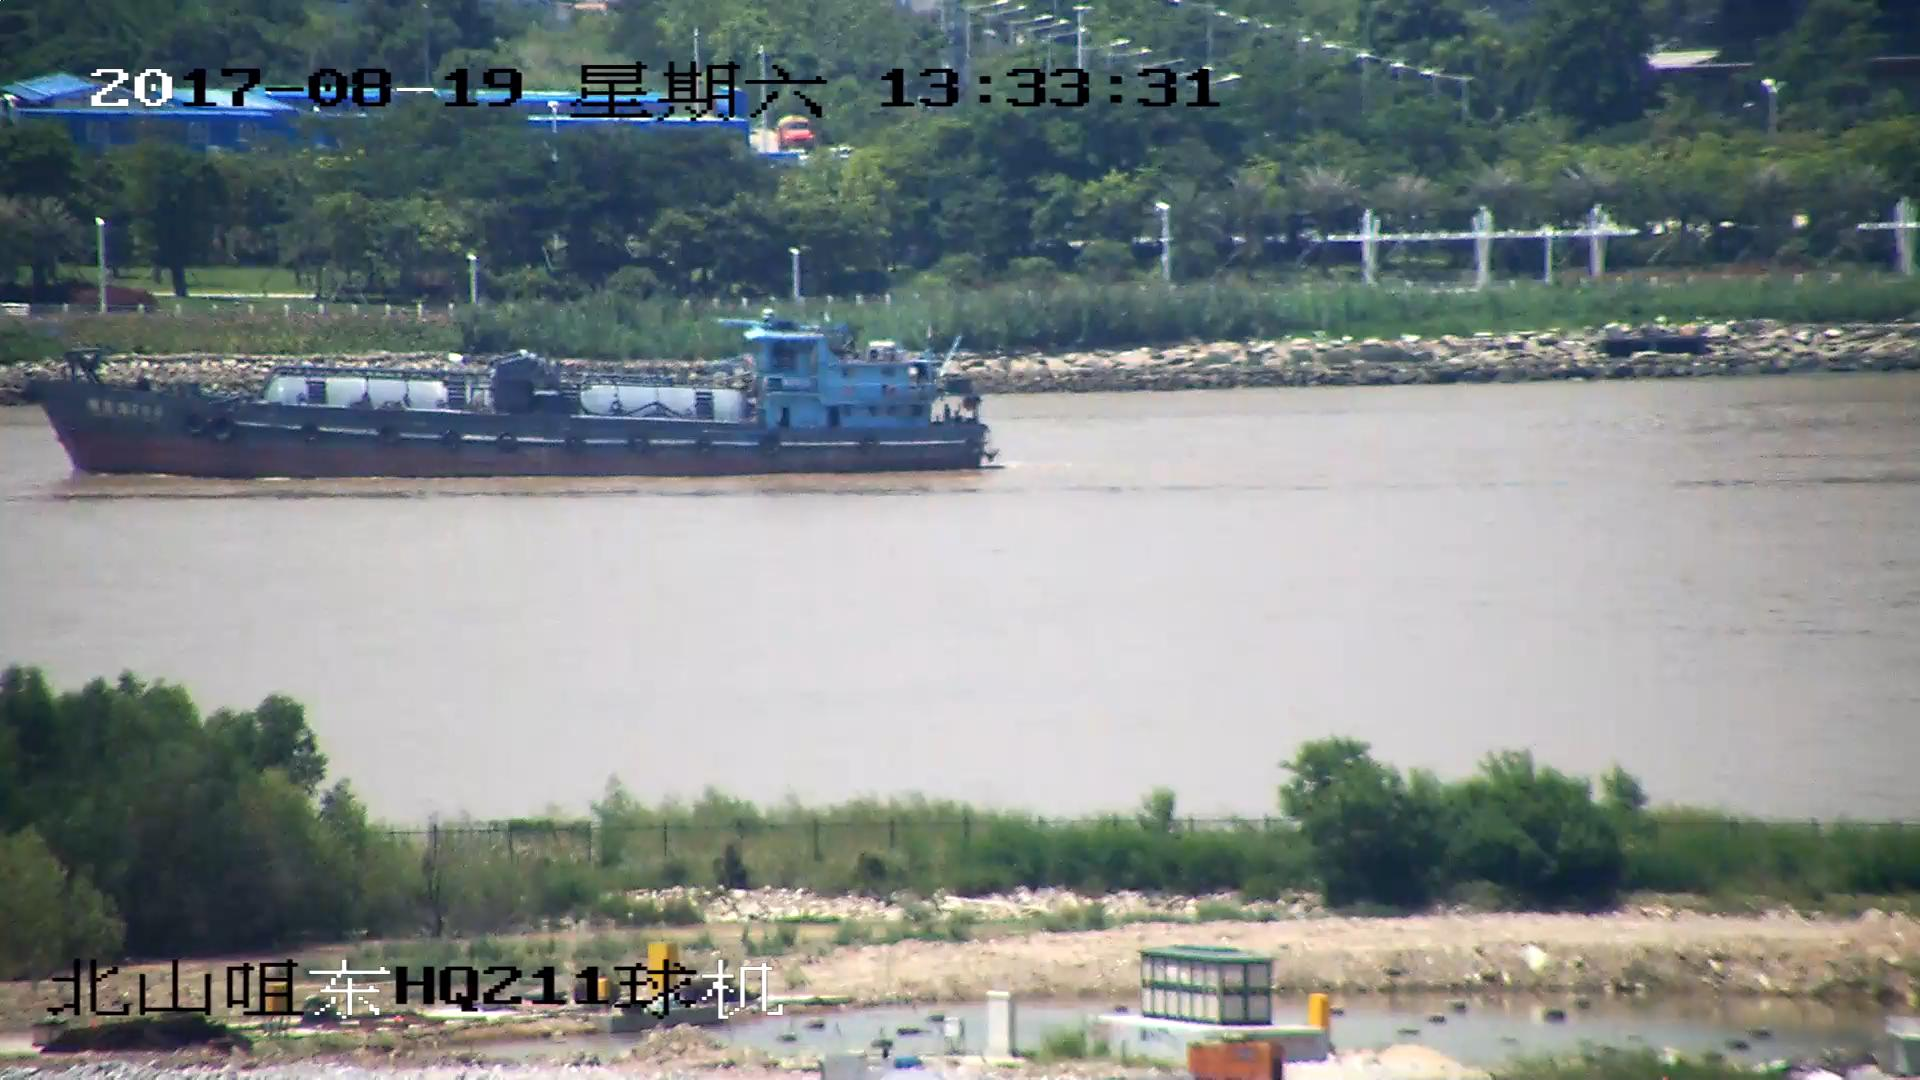bulk cargo carrier: (31, 314, 1002, 473)
